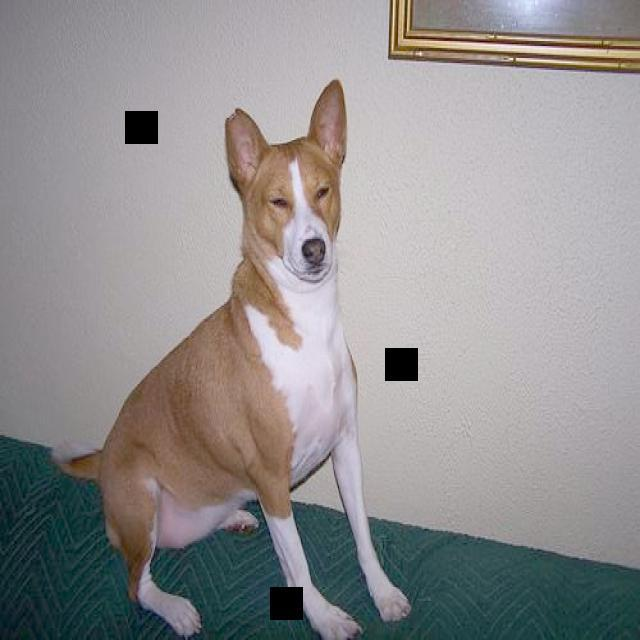adult_dog: (52, 77, 415, 640)
